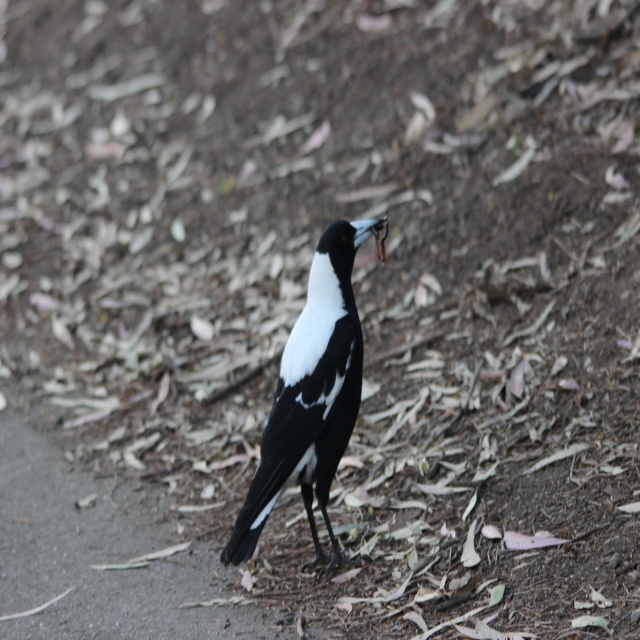Magpie: (220, 212, 386, 582)
